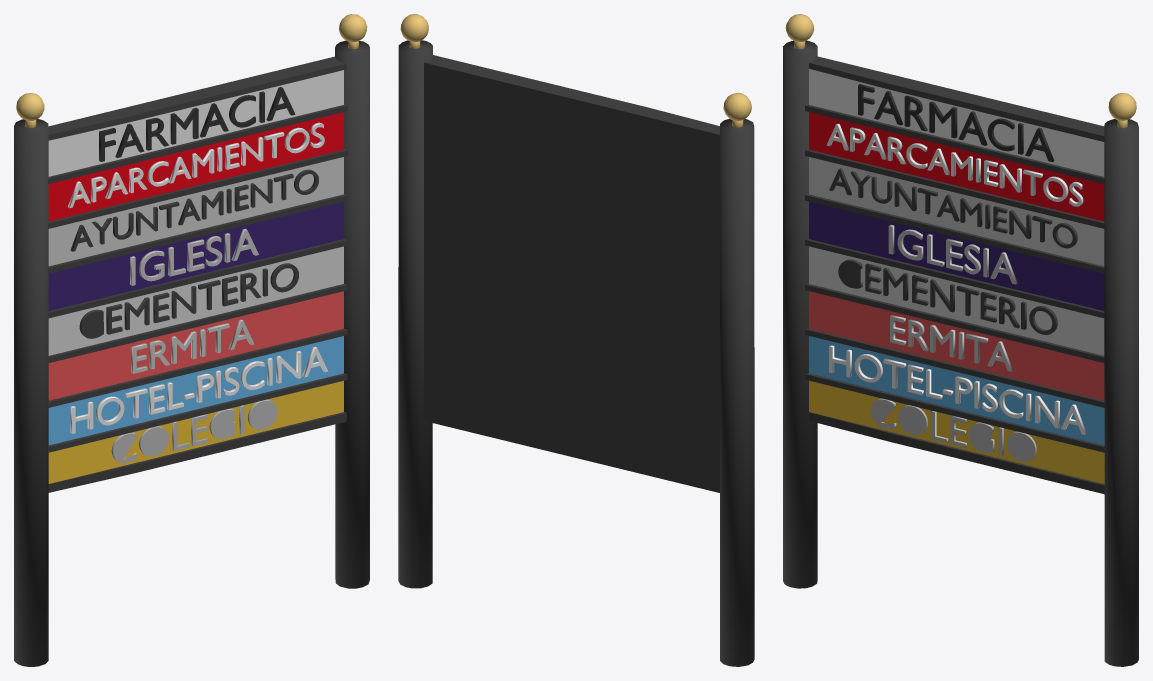
File: Cartel_Principal.fbx
3 views of the same model, side by side, from view 1: azimuth 30°, elevation 25°; view 2: azimuth 150°, elevation 25°; view 3: azimuth 330°, elevation 25° (orthographic).
Parts seen in each view (by area): view 1: Sphere.001, Hotel-Pisicna, Cementario, Aparcamientos, Colegio, Ayuntamiento, Farmacia, Iglesia, Ermita; view 2: Sphere.001; view 3: Sphere.001, Hotel-Pisicna, Cementario, Aparcamientos, Ayuntamiento, Colegio, Farmacia, Iglesia, Ermita.
Part boxes in pixels (<box>): Sphere.001: <box>14,14,369,666</box>; Hotel-Pisicna: <box>70,346,328,433</box>; Cementario: <box>79,263,298,338</box>; Aparcamientos: <box>68,122,324,208</box>; Colegio: <box>111,399,277,462</box>; Ayuntamiento: <box>70,169,318,251</box>; Farmacia: <box>99,87,295,161</box>; Iglesia: <box>130,228,258,285</box>; Ermita: <box>131,319,254,373</box>; Sphere.001: <box>398,14,754,666</box>; Sphere.001: <box>783,14,1138,666</box>; Hotel-Pisicna: <box>829,345,1086,434</box>; Cementario: <box>838,259,1057,334</box>; Aparcamientos: <box>826,123,1083,206</box>; Ayuntamiento: <box>829,168,1077,248</box>; Colegio: <box>871,398,1036,461</box>; Farmacia: <box>858,84,1054,162</box>; Iglesia: <box>888,224,1017,284</box>; Ermita: <box>890,315,1013,371</box>.
Size of the model in its own units: 154 by 237 by 13.16.
